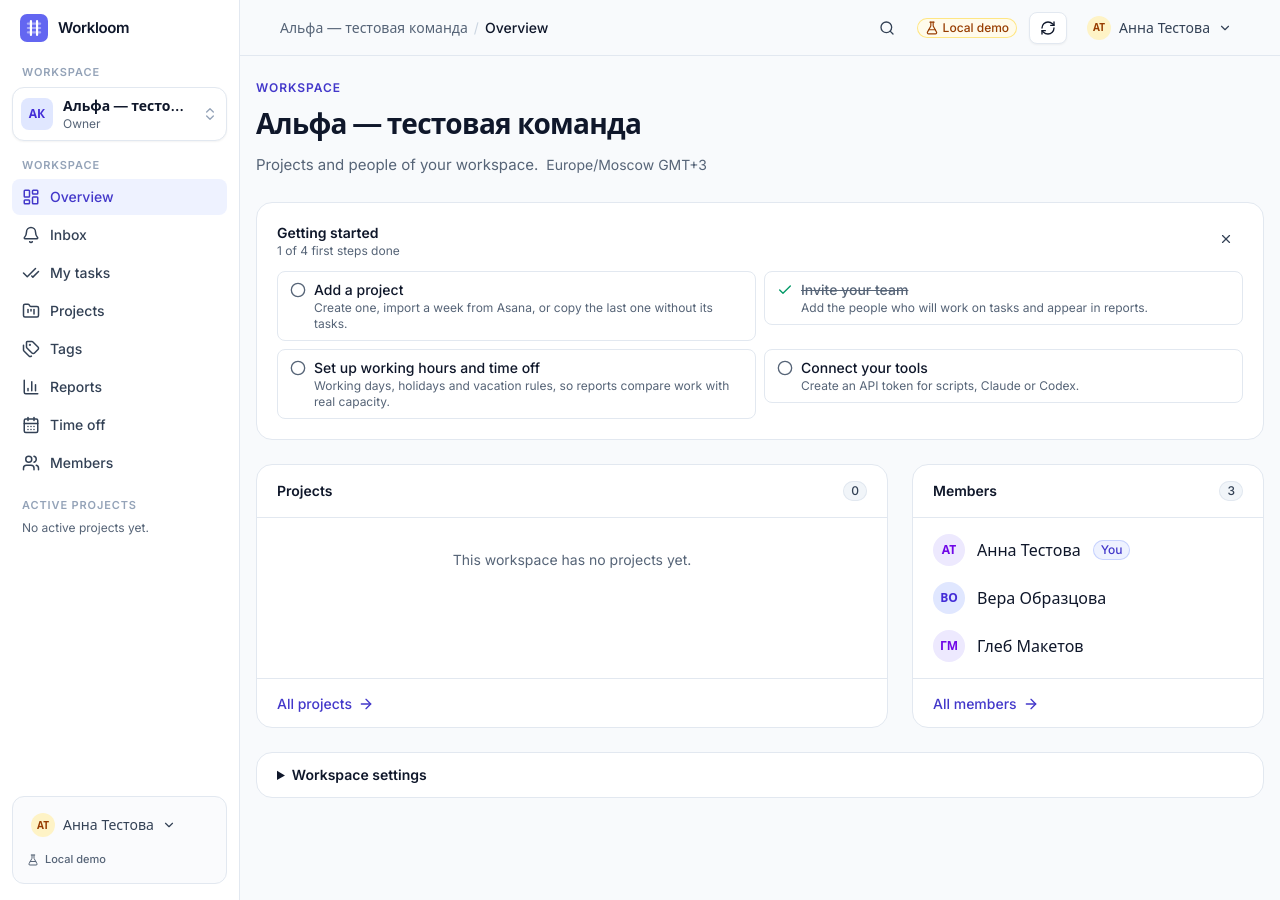
Test: quick jump › opens with Ctrl+K, filters pages as you type and navigates with Enter
The image size is (1280, 900).
Expected: the button named "Search and jump" is shown, [869,12,905,44]
Type keys "{Control>}k{/Control}"
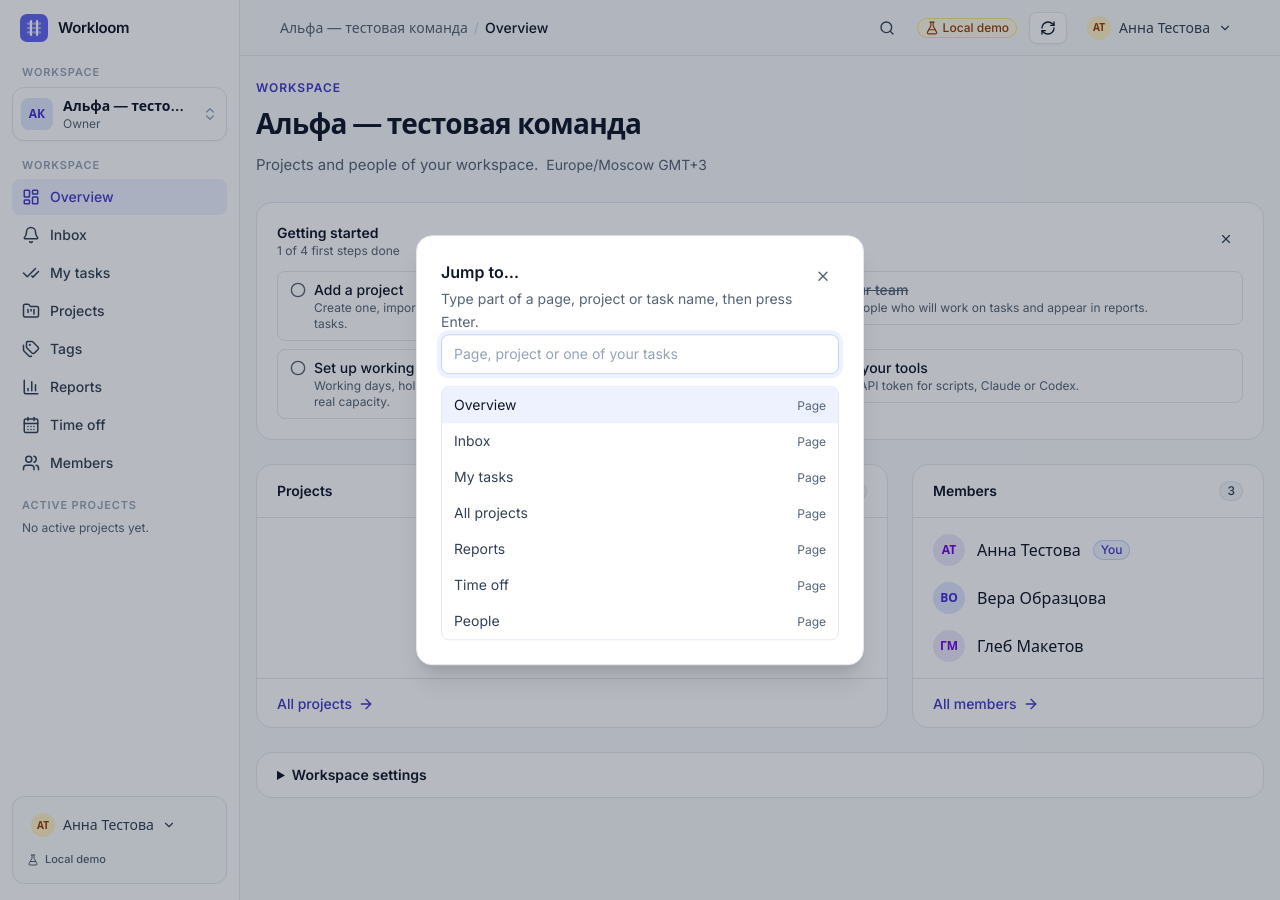
Type "time" into the dropdown named "Search" at (640, 354), box [441,334,839,374]
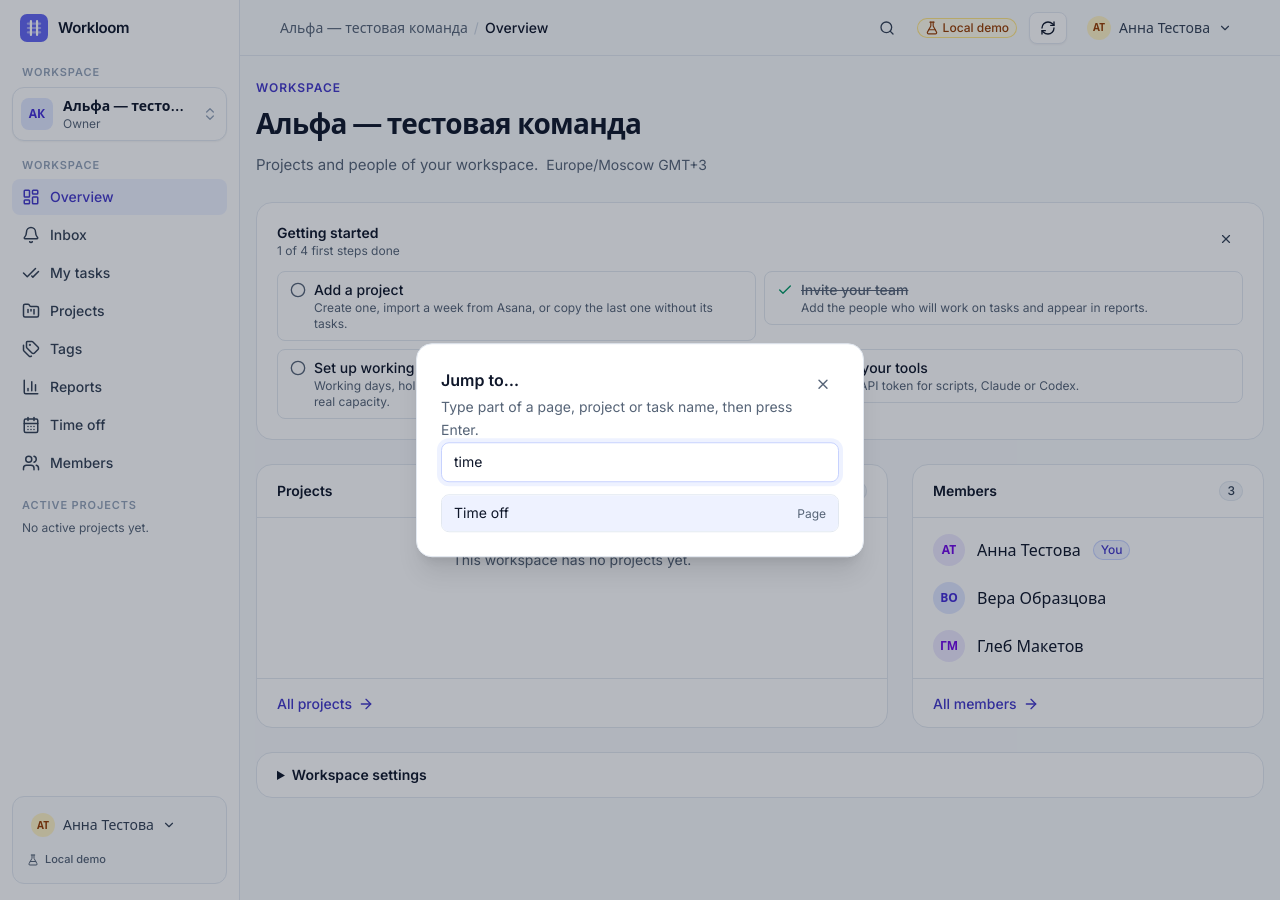
Expected: the options read "Time offPage", in this order, [442,495,838,531]
Press Enter
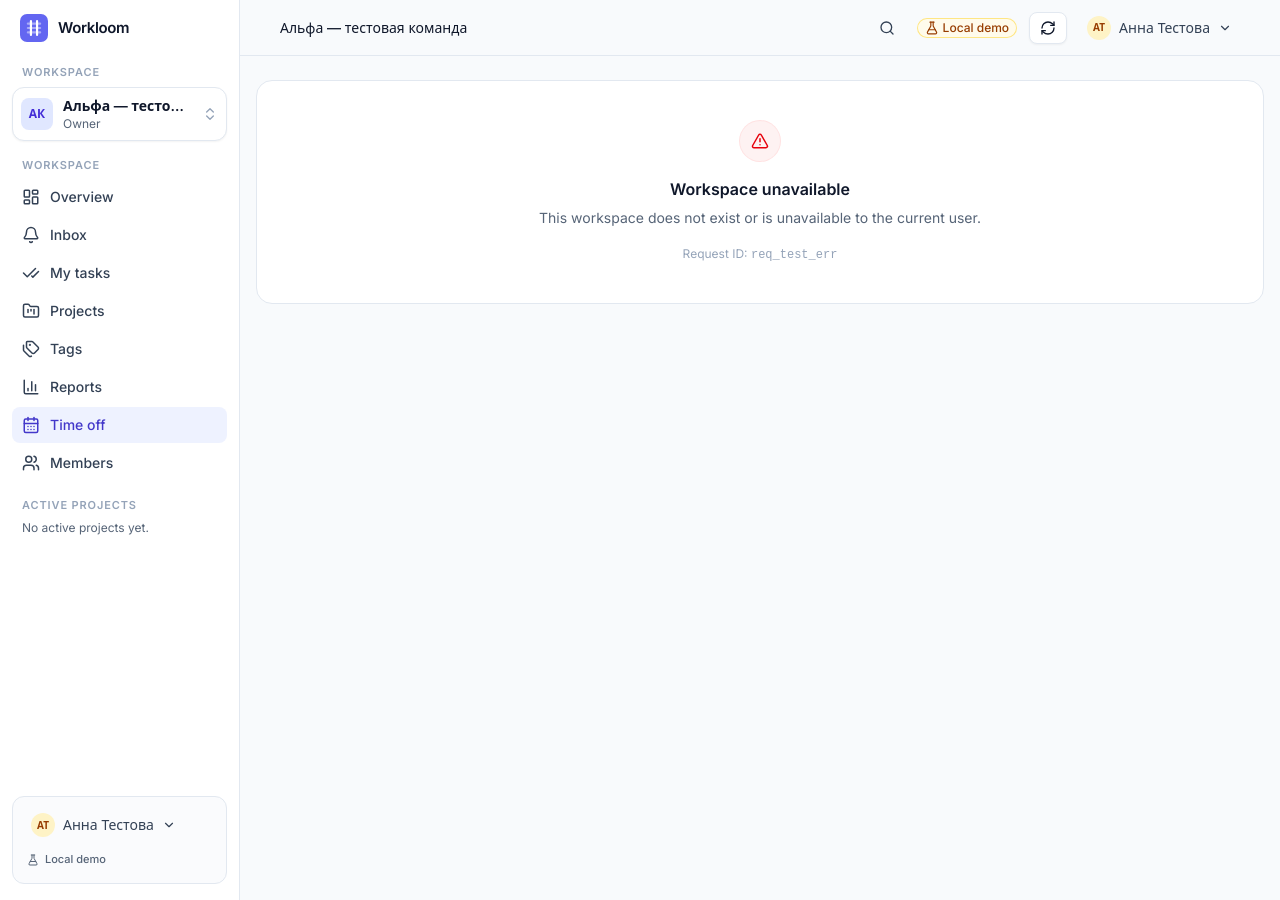
Expected: the dropdown labelled "Search" is gone
